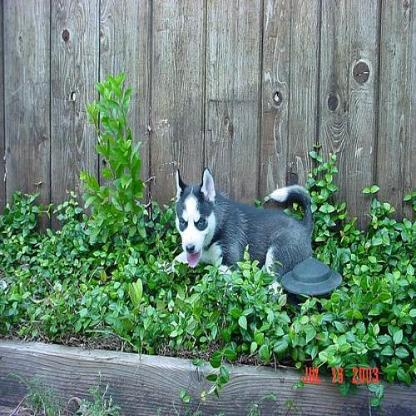Siberian_husky: (171, 166, 313, 294)
